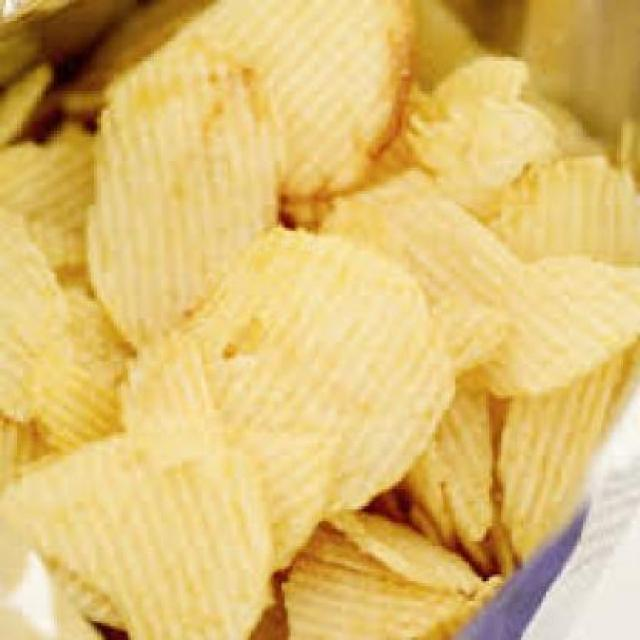Chips packaged: (54, 6, 572, 620)
